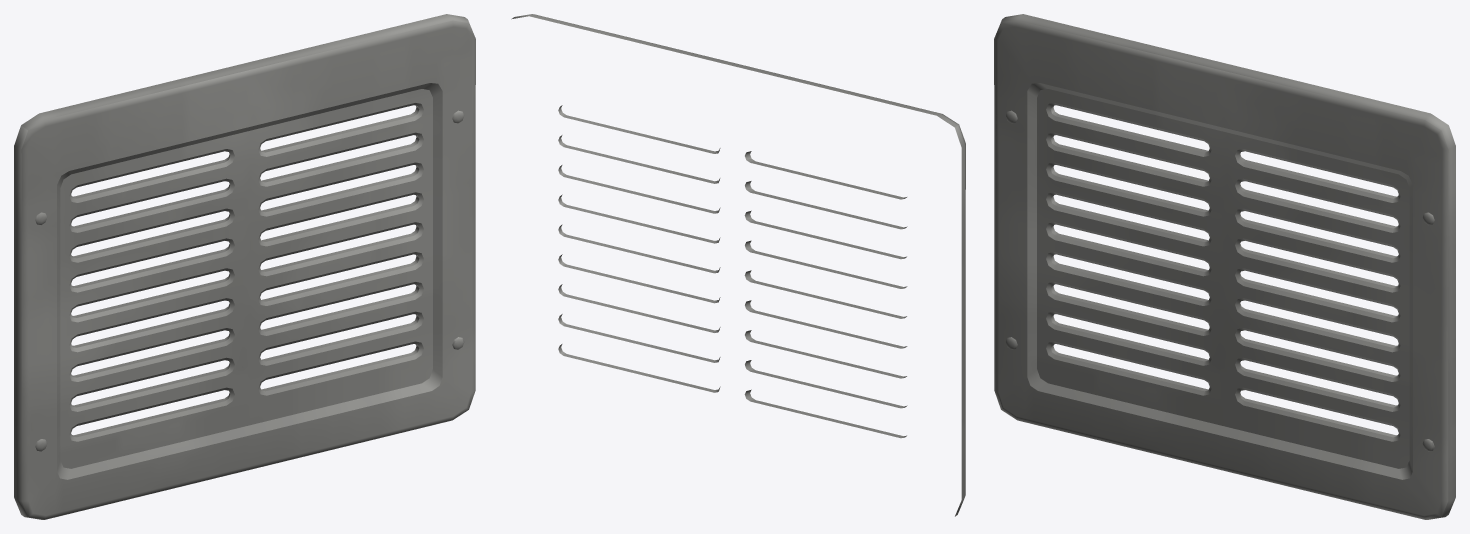
Rendered from vent_cover.glb.
3 renders of one model, left to right at view 1: azimuth 30°, elevation 25°; view 2: azimuth 150°, elevation 25°; view 3: azimuth 330°, elevation 25°, orthographic.
Visible parts, largest first — view 1: vent_cover; view 2: vent_cover; view 3: vent_cover.
Boxes of the visible parts, x1,y1,x2,y2 form: vent_cover: [14, 14, 475, 519]; vent_cover: [511, 14, 965, 516]; vent_cover: [994, 14, 1455, 519].
Size of the model in its own units: 0.45 by 0.3798 by 0.0144.
1 material, 1 textured.
